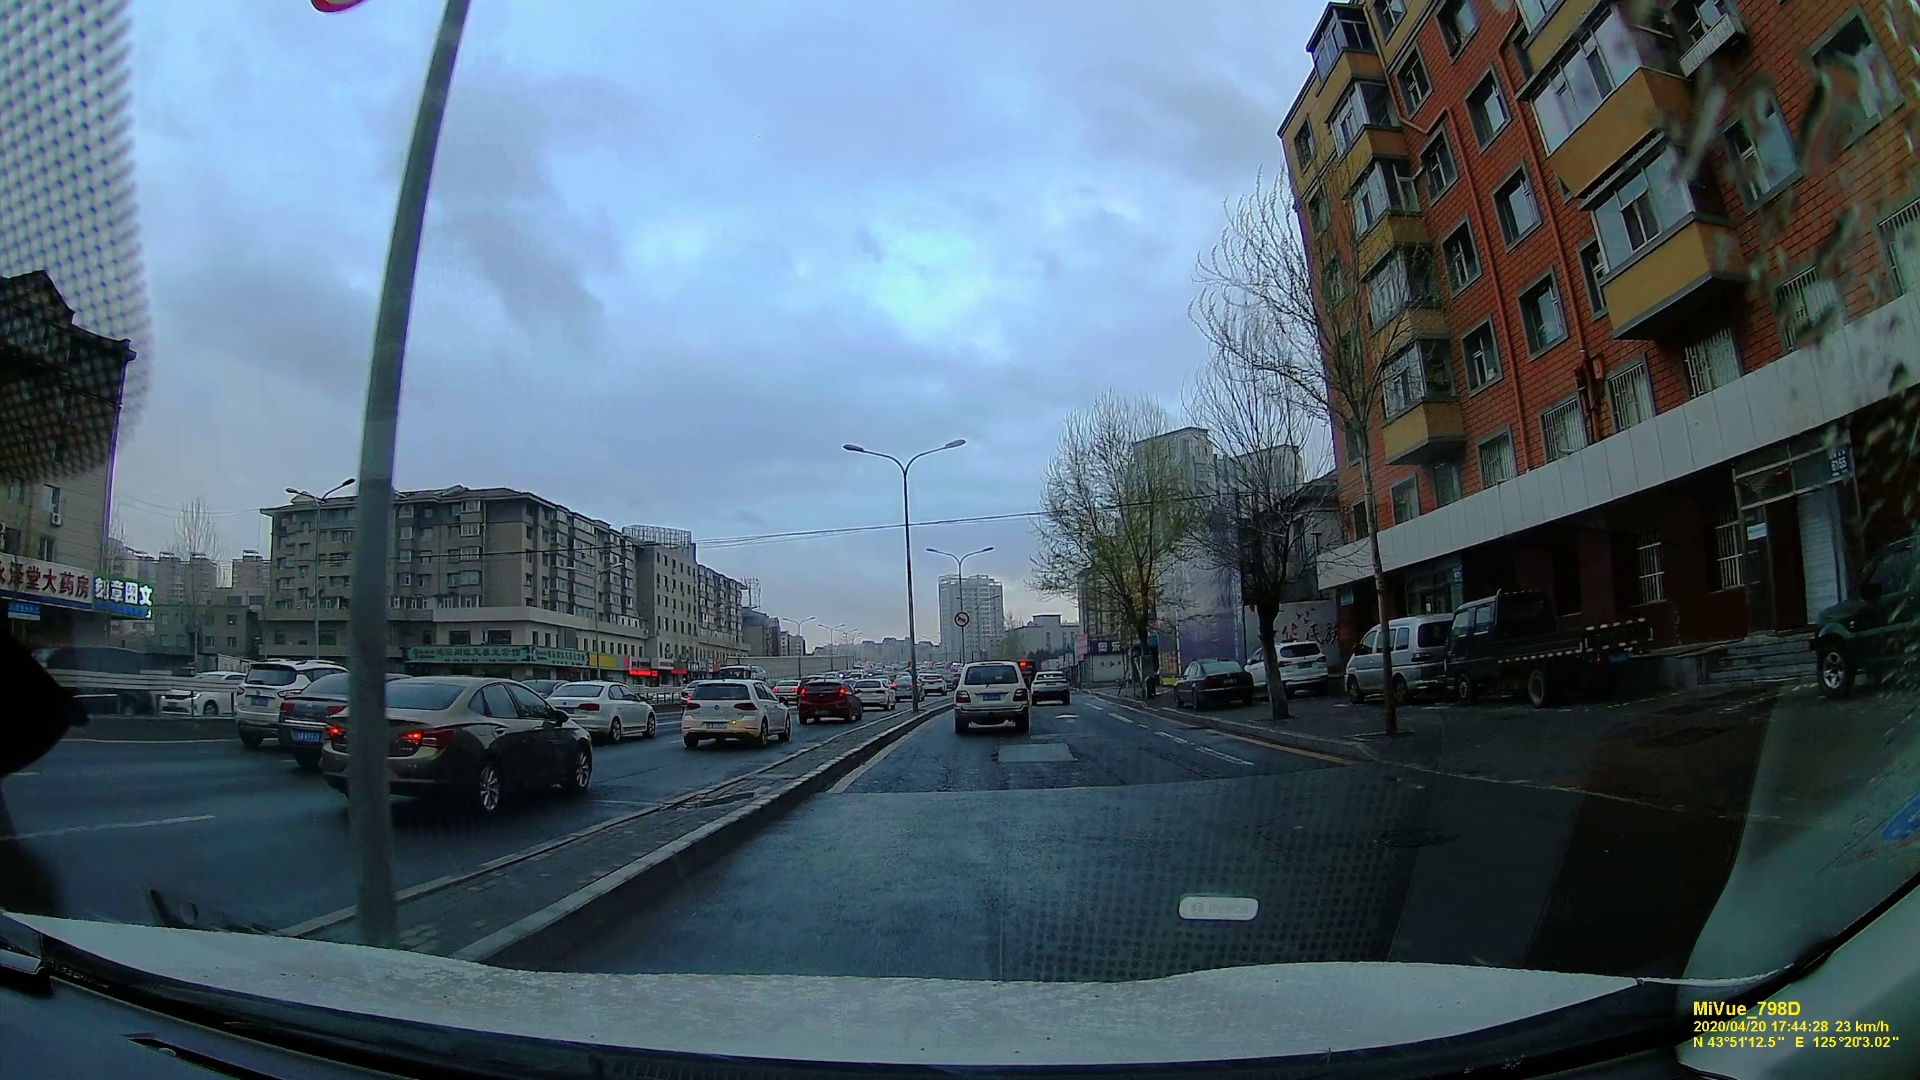minibus: (1341, 617, 1449, 692)
traffic_sign: (953, 611, 968, 630)
truck: (1444, 587, 1658, 709)
vehicle: (347, 669, 597, 807), (676, 673, 791, 748), (545, 682, 657, 740), (949, 658, 1031, 731), (1247, 640, 1327, 695), (1174, 659, 1262, 705), (794, 678, 862, 724)
